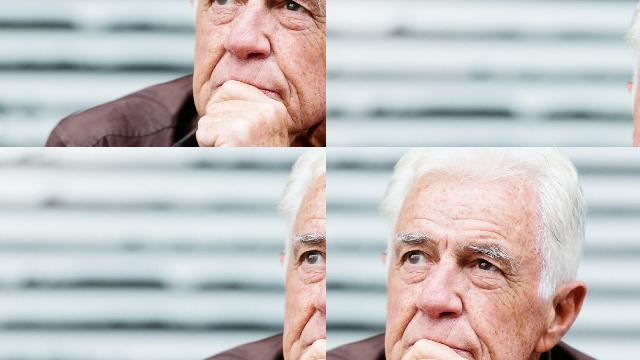crows_feet: (504, 272, 520, 296), (461, 37, 475, 57)
forehead: (16, 212, 56, 245), (460, 212, 504, 242), (408, 211, 436, 227), (0, 213, 9, 239)
frown_line: (511, 27, 534, 41)
gummy_smile: (457, 300, 481, 340), (398, 306, 418, 340), (478, 74, 492, 100), (551, 74, 563, 102)
masseter: (469, 107, 486, 131)
sad_smile: (479, 339, 497, 360)
